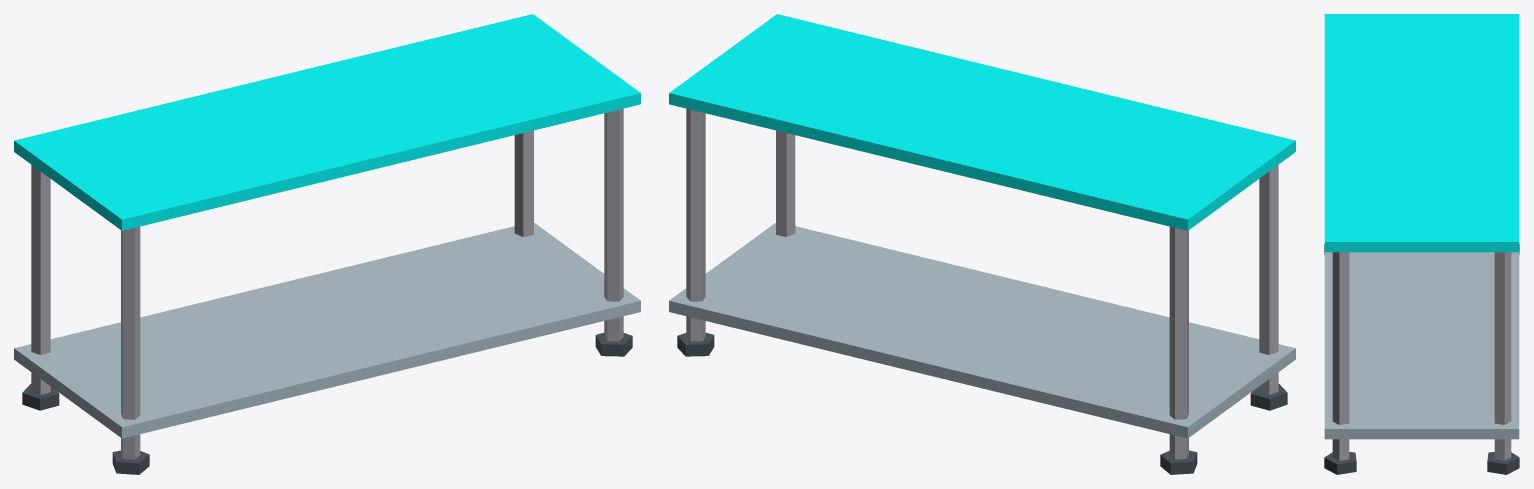
Rendered from Shelf_A2_geo.fbx.
3 views of the same model, side by side, from view 1: azimuth 30°, elevation 25°; view 2: azimuth 150°, elevation 25°; view 3: azimuth 270°, elevation 25° (orthographic). The views are drawn at different scales.
Parts seen in each view (by area): view 1: Shelf_A2_geo; view 2: Shelf_A2_geo; view 3: Shelf_A2_geo.
Part boxes in pixels (x1=…): Shelf_A2_geo: x1=14, y1=14, x2=640, y2=474; Shelf_A2_geo: x1=669, y1=14, x2=1295, y2=474; Shelf_A2_geo: x1=1324, y1=14, x2=1519, y2=474.
Size of the model in its own units: 1.97 by 0.7142 by 0.9411.
